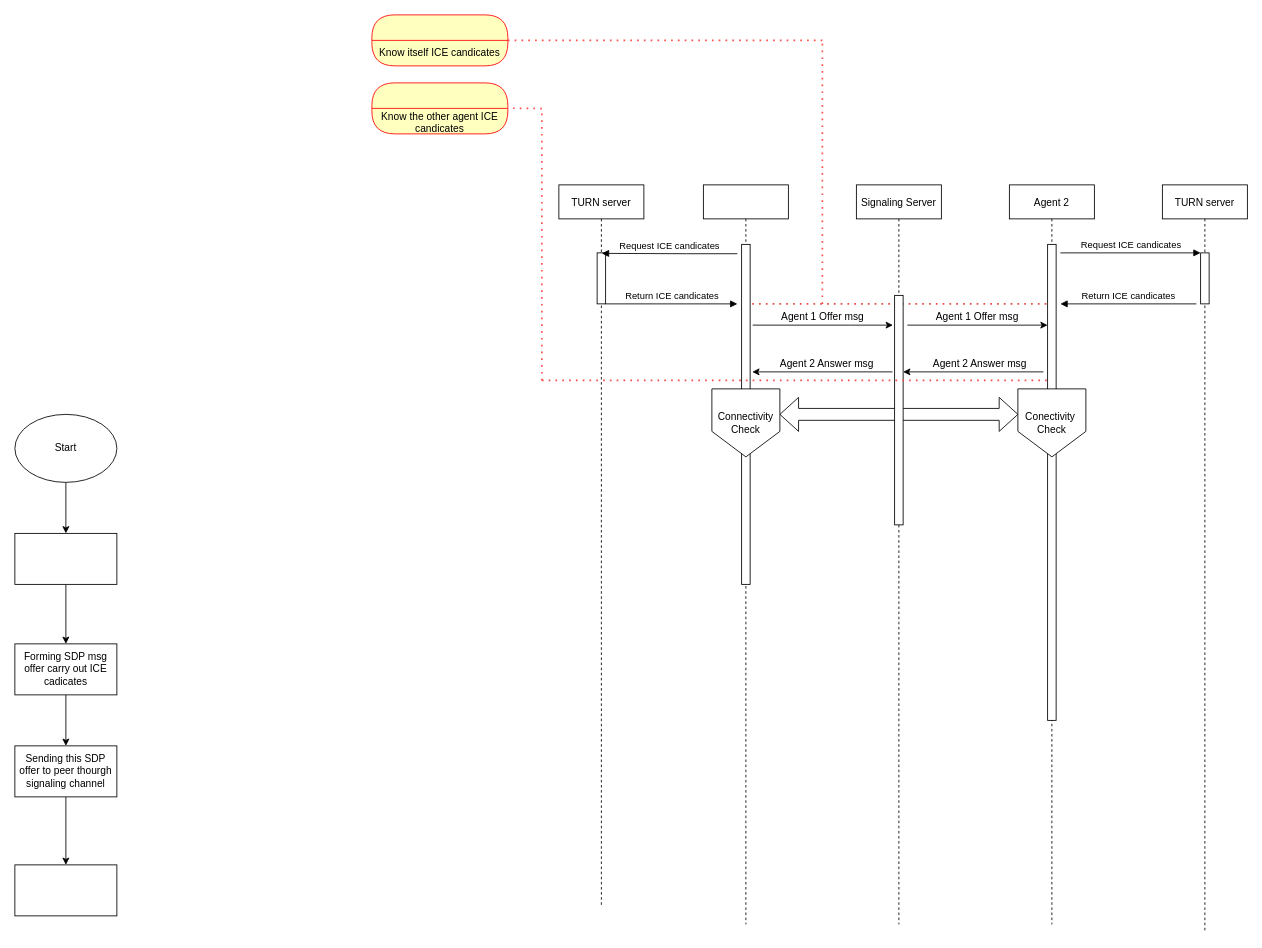
This 1262x948 diagram has some shape labels left out. The box of each missing label's shape, as (x1, y1, x2, y2) in pixels:
Agent 1: (703, 184, 788, 924)
Gathering itself: (371, 14, 508, 66)
Gathering the other: (371, 82, 508, 134)
Obtain itself ICE candicates: (14, 533, 117, 584)
Peer recieves SDP offer and also gathing its: (14, 864, 117, 916)
